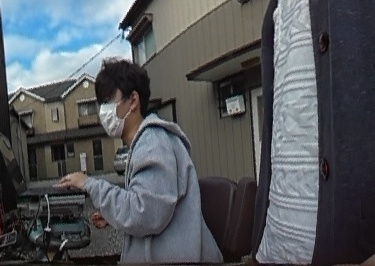person: (93, 60, 219, 266)
